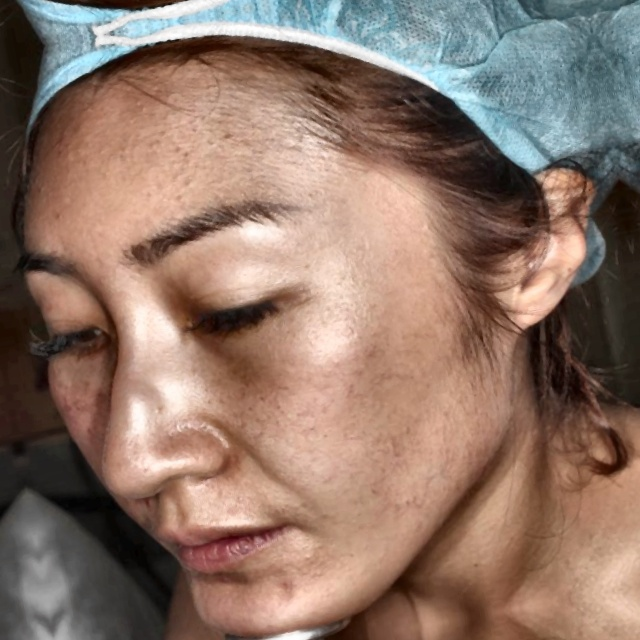comedone: (267, 576, 304, 609)
